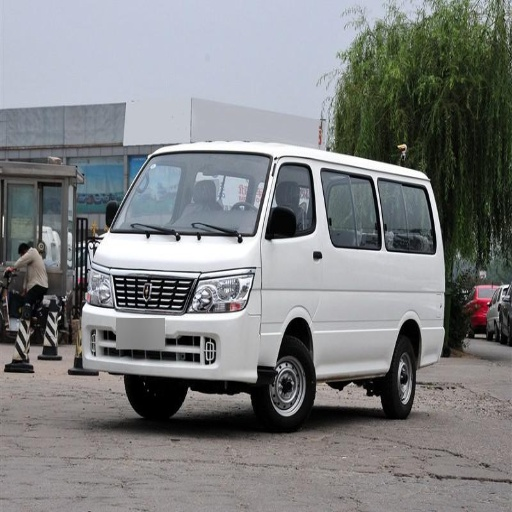front_bumper: (82, 269, 284, 380)
front_glass: (111, 154, 272, 234)
front_left_door: (268, 162, 327, 289)
trunk: (318, 257, 443, 371)
